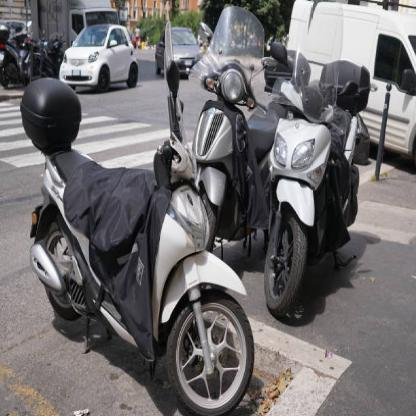Motorcycle: (15, 69, 256, 415), (259, 48, 363, 319), (172, 21, 256, 241)
